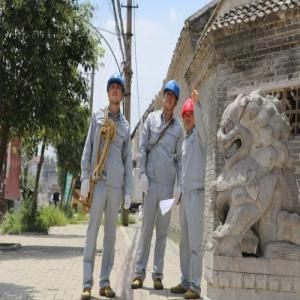blue: (105, 72, 127, 111), (162, 80, 181, 114)
red: (181, 99, 198, 135)
